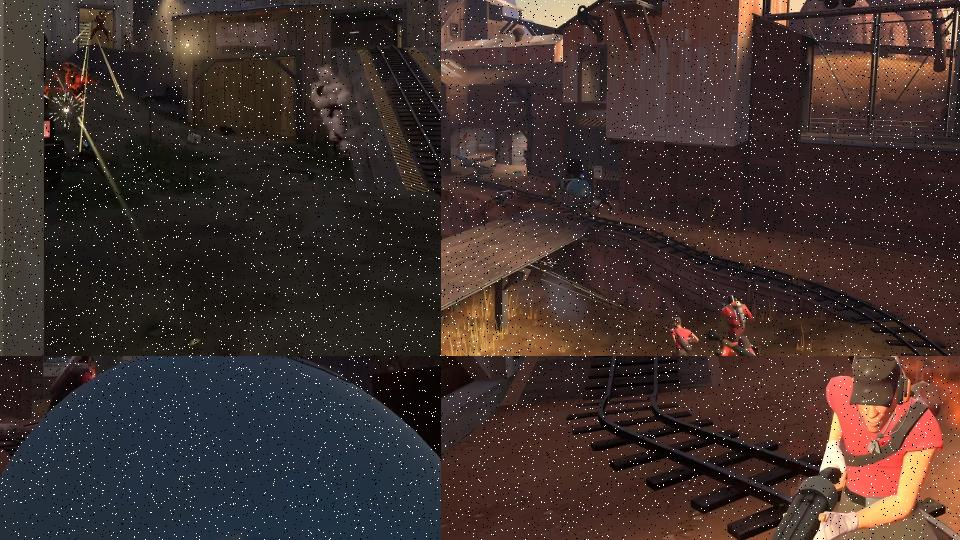Enemy: (763, 356, 960, 540), (312, 76, 352, 152), (45, 356, 94, 415), (705, 294, 753, 345), (704, 327, 769, 356), (660, 316, 701, 356), (0, 417, 39, 438), (594, 184, 616, 218), (91, 11, 110, 41), (123, 28, 136, 52)
